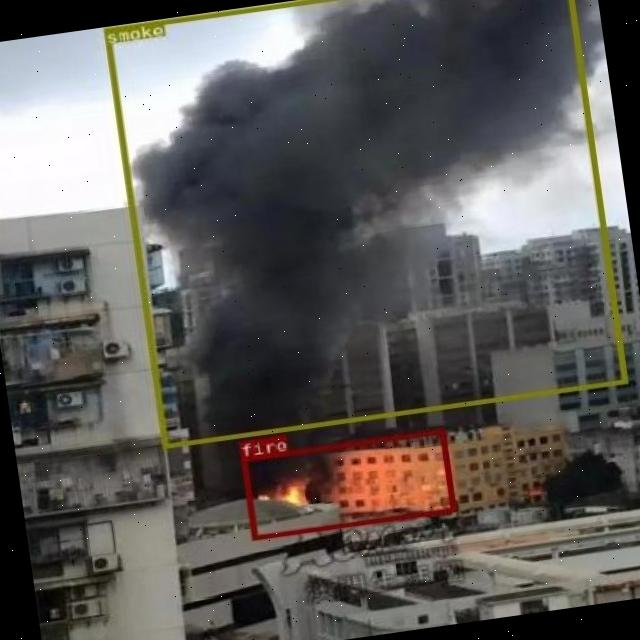fire: (239, 428, 455, 541)
smoke: (104, 0, 628, 448)
